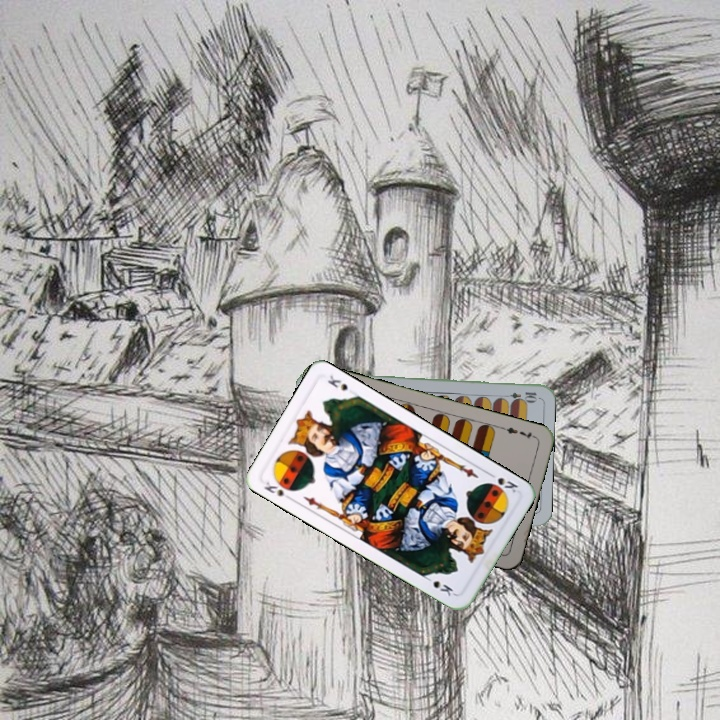E10: (499, 388, 539, 402)
E7: (498, 423, 538, 442)
SK: (484, 468, 521, 496), (260, 477, 296, 503)
